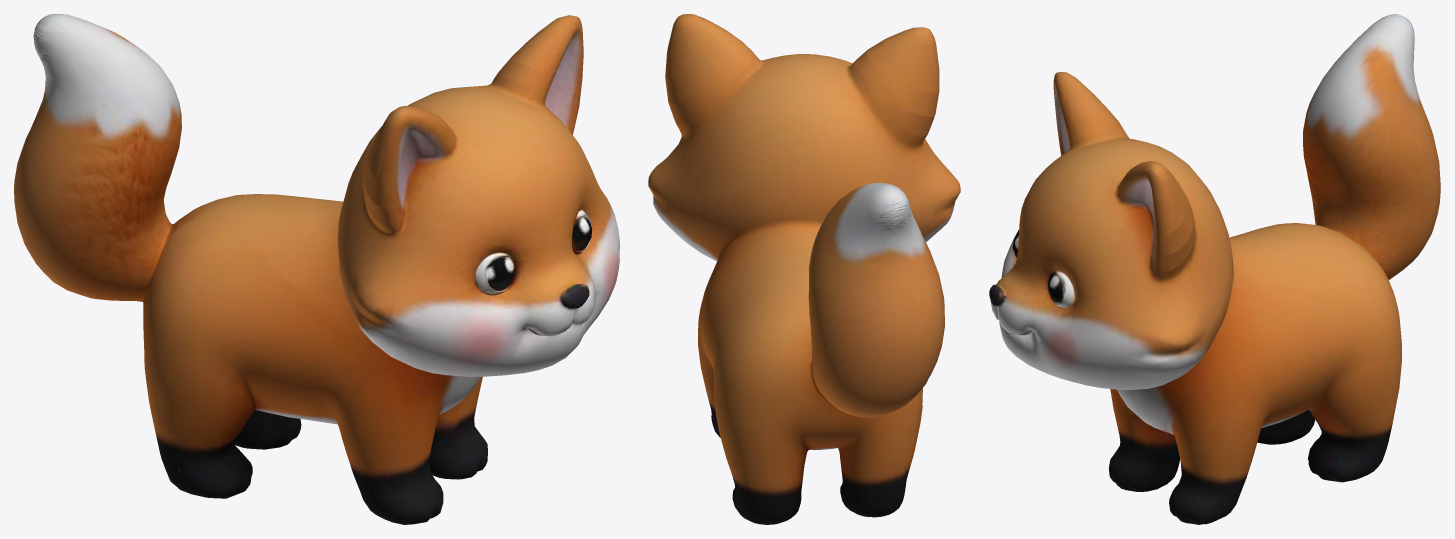
Rendered from pet_fox.glb.
The picture shows the model from 3 angles, left to right: view 1: azimuth 30°, elevation 25°; view 2: azimuth 150°, elevation 25°; view 3: azimuth 270°, elevation 25°; orthographic projection. The views are drawn at different scales.
Visible parts, largest first — view 1: node_0; view 2: node_0; view 3: node_0.
Boxes of the visible parts, x1,y1,x2,y2 form: node_0: [14, 14, 619, 524]; node_0: [648, 14, 960, 524]; node_0: [989, 14, 1440, 524].
Bounding box in the file's own units: 0.8057 × 0.7695 × 0.804.
Materials: 1 (1 with a texture image).
